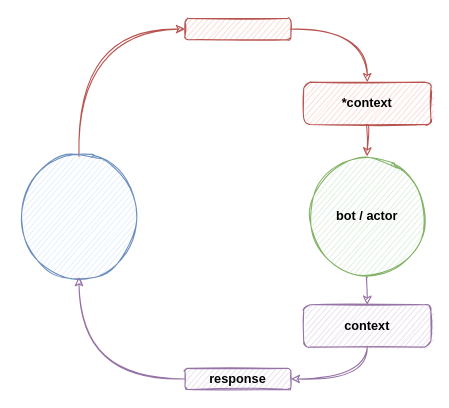
The diagram is 449 pixels wide and 408 high, and some of its shapes have lost their labels. Each missing label, with the centre of its shape:
"request" goes at (x=237, y=28).
"user" goes at (x=78, y=216).
